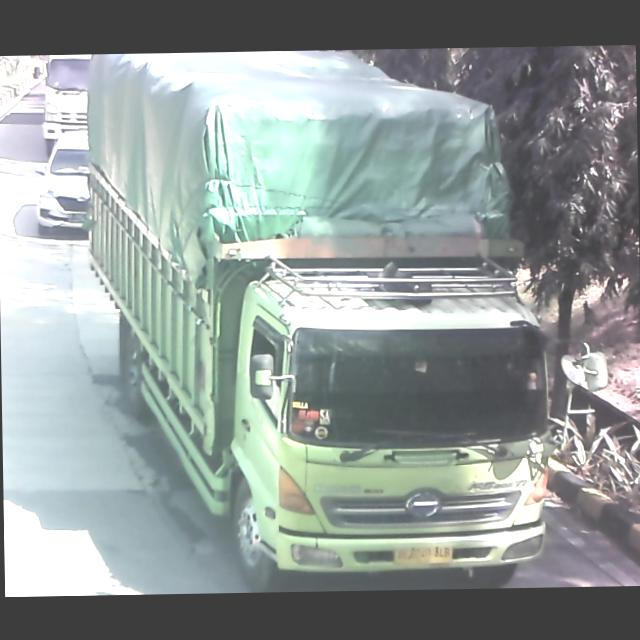plate: (390, 540, 460, 568)
